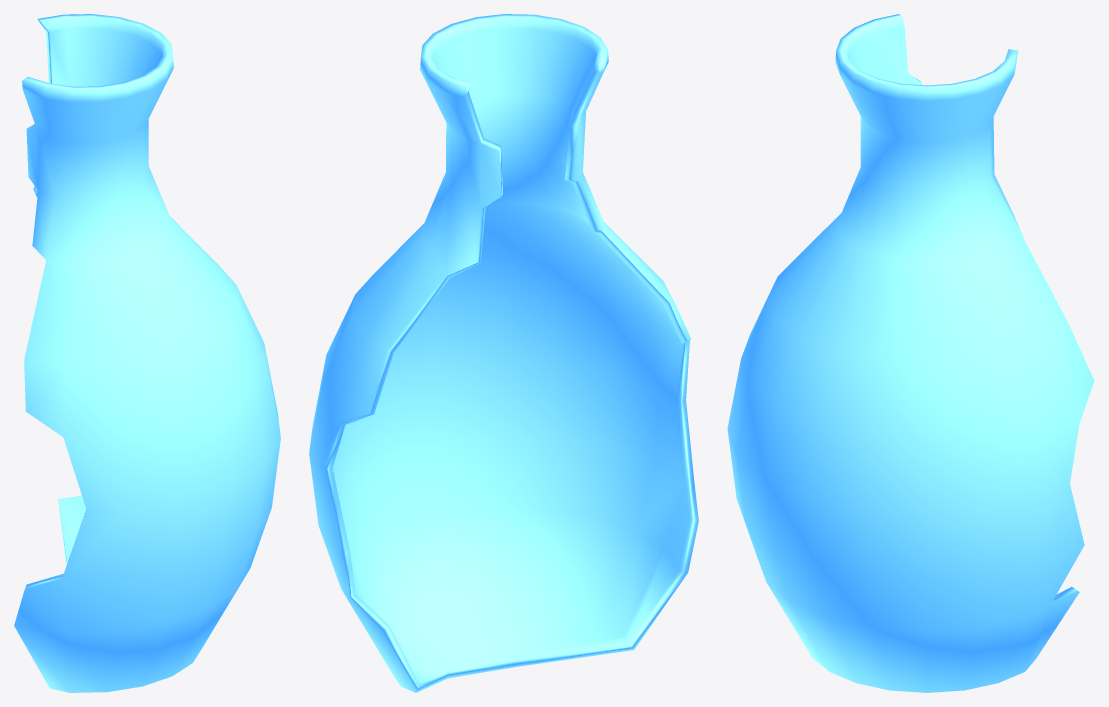
The model's file is vase_tall_broken03_005.fbx.
3 views of the same model, side by side, from view 1: azimuth 30°, elevation 25°; view 2: azimuth 150°, elevation 25°; view 3: azimuth 270°, elevation 25° (orthographic). The views are drawn at different scales.
Visible parts, largest first — view 1: vase_tall_broken03.005; view 2: vase_tall_broken03.005; view 3: vase_tall_broken03.005.
Boxes of the visible parts, left/top/right/bottom form: vase_tall_broken03.005: left=14, top=14, right=280, bottom=692; vase_tall_broken03.005: left=309, top=14, right=698, bottom=692; vase_tall_broken03.005: left=727, top=14, right=1094, bottom=692.
Bounding box in the file's own units: 5148 × 10041 × 5614.
